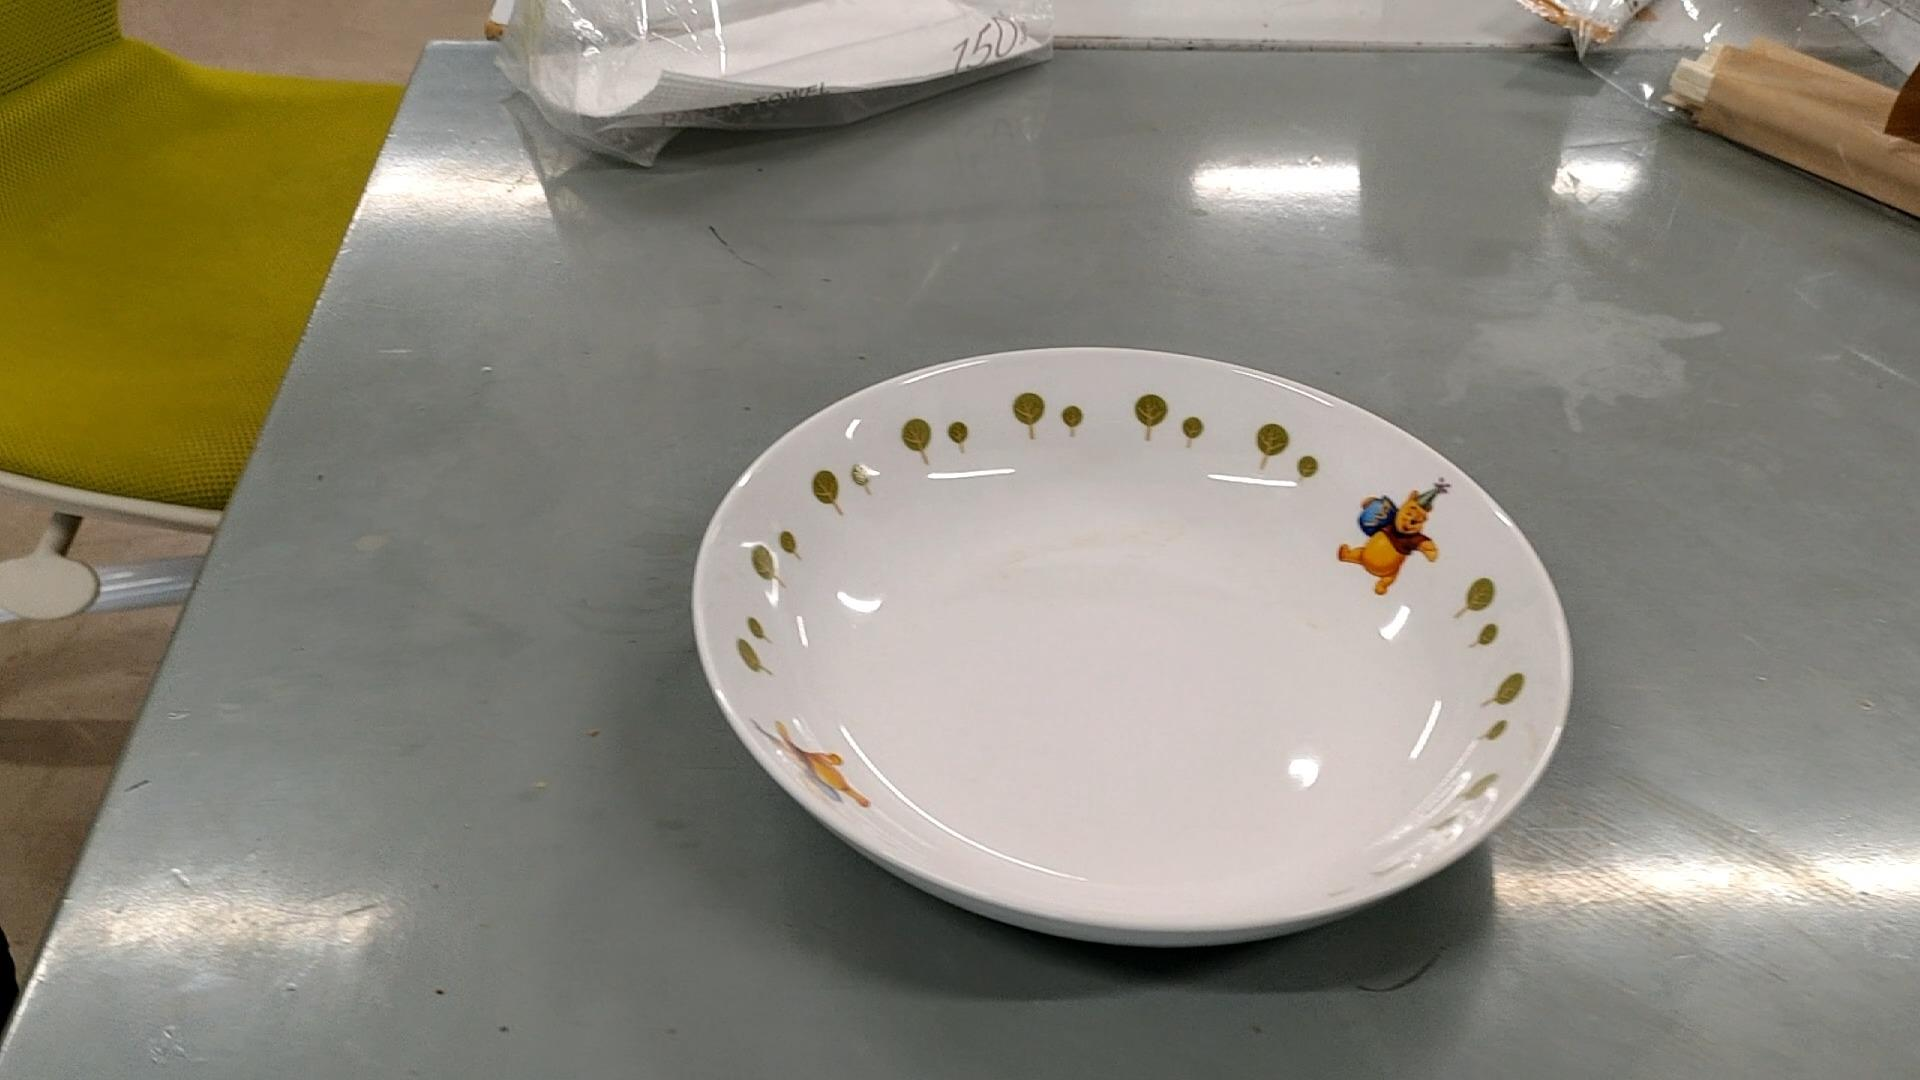plate: (695, 345, 1569, 952)
